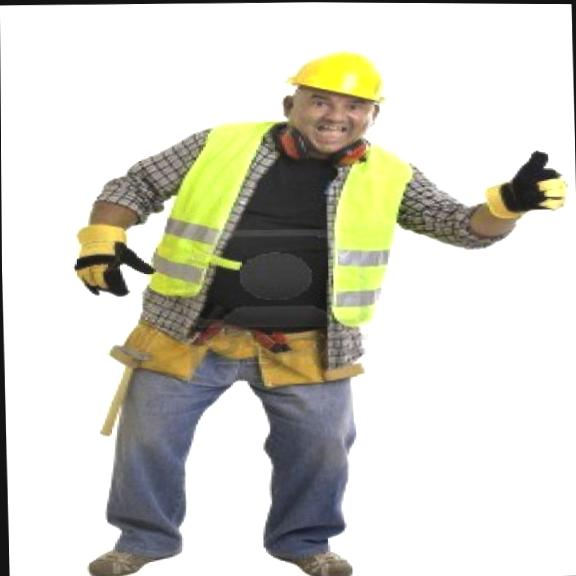safety_vest: (150, 118, 427, 335)
